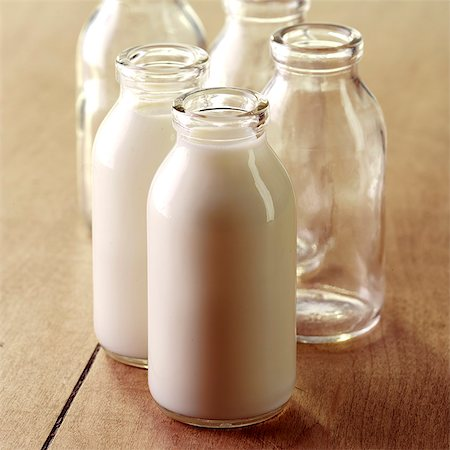glass of milk: (153, 104, 295, 421), (94, 45, 195, 369)
